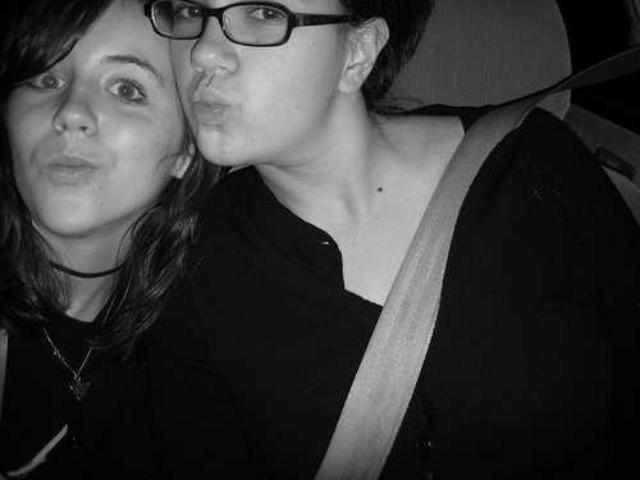SafeDriving: (96, 62, 156, 111), (18, 56, 74, 100), (234, 0, 290, 29), (166, 0, 207, 25)
Seatbelt: (309, 47, 617, 480)
